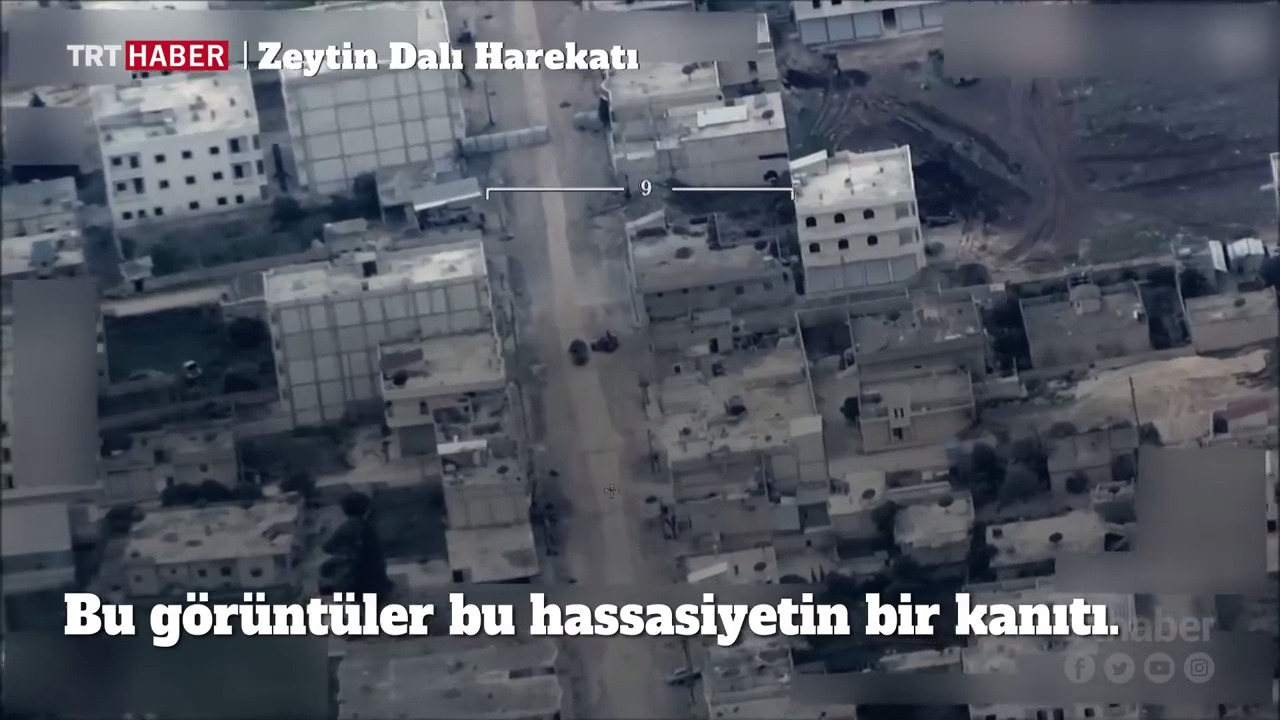arac: (567, 332, 591, 373), (592, 330, 628, 354), (668, 662, 698, 689), (184, 357, 208, 378)
bina: (272, 216, 509, 432), (98, 60, 262, 232), (607, 83, 785, 207), (792, 132, 925, 294), (112, 486, 303, 595)
